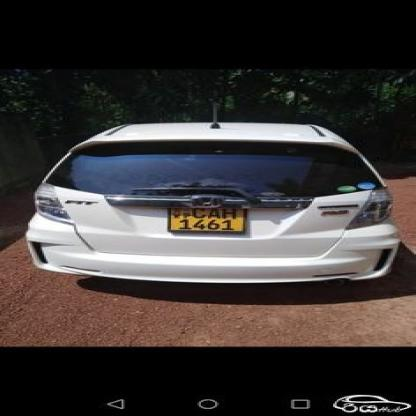car back: (18, 110, 416, 292)
number plate: (165, 196, 255, 236)
